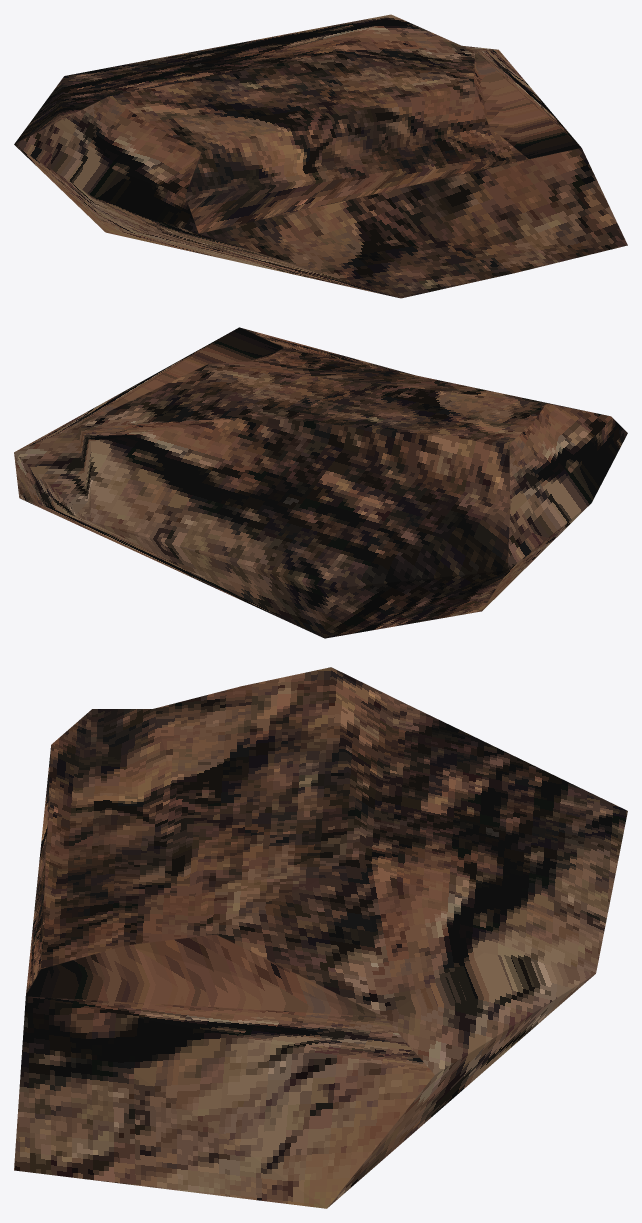
File: stage-gran-p4-3.glb
3 views of the same model, one above another, from view 1: azimuth 30°, elevation 25°; view 2: azimuth 150°, elevation 25°; view 3: azimuth 270°, elevation 25° (orthographic). The views are drawn at different scales.
Bounding box in the file's own units: 22.46 × 7.6 × 16.9.
Materials: 1 (1 with a texture image).
